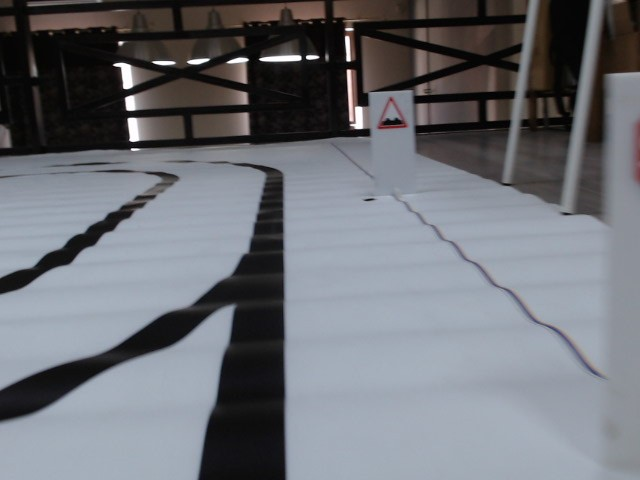Nerov: (377, 95, 409, 131)
